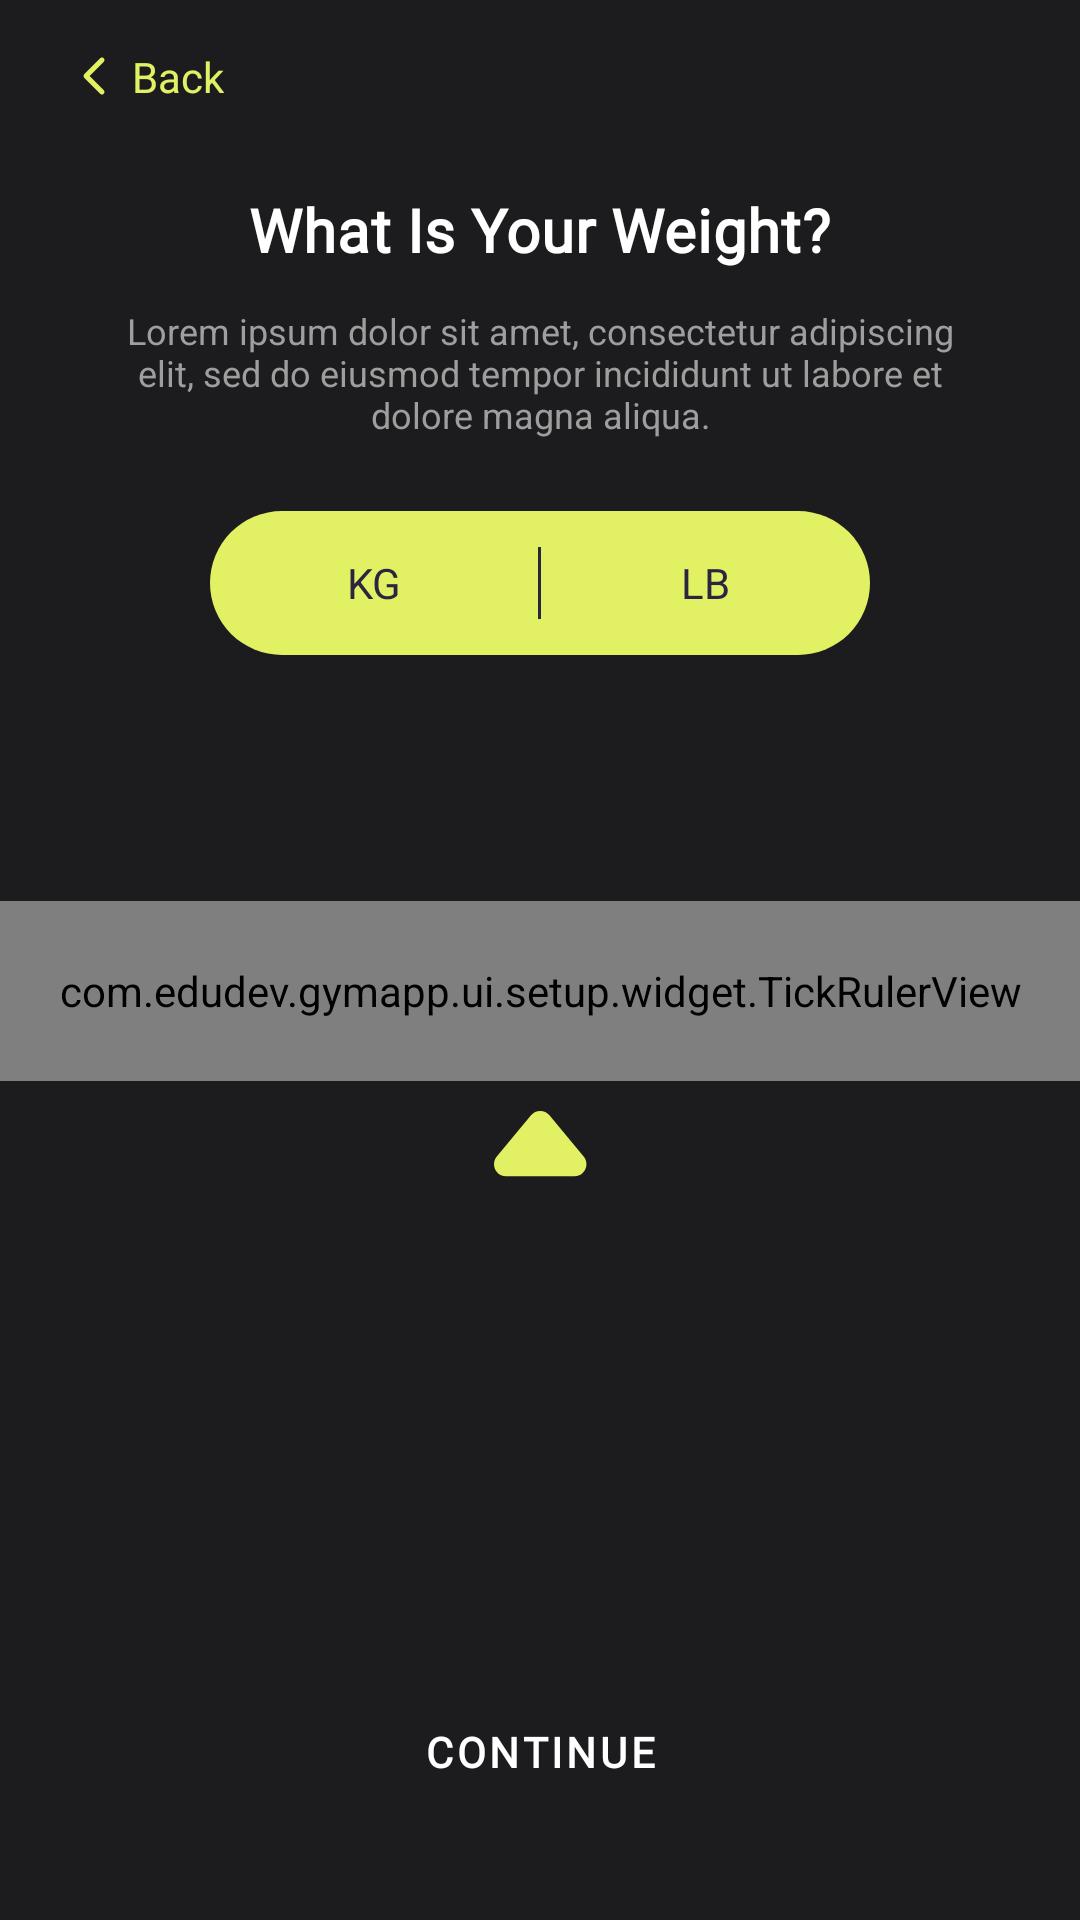

Point at icon controls on the screen. Image size 1080*1920, points as point (x, y).
triangle up: point (540, 1144)
